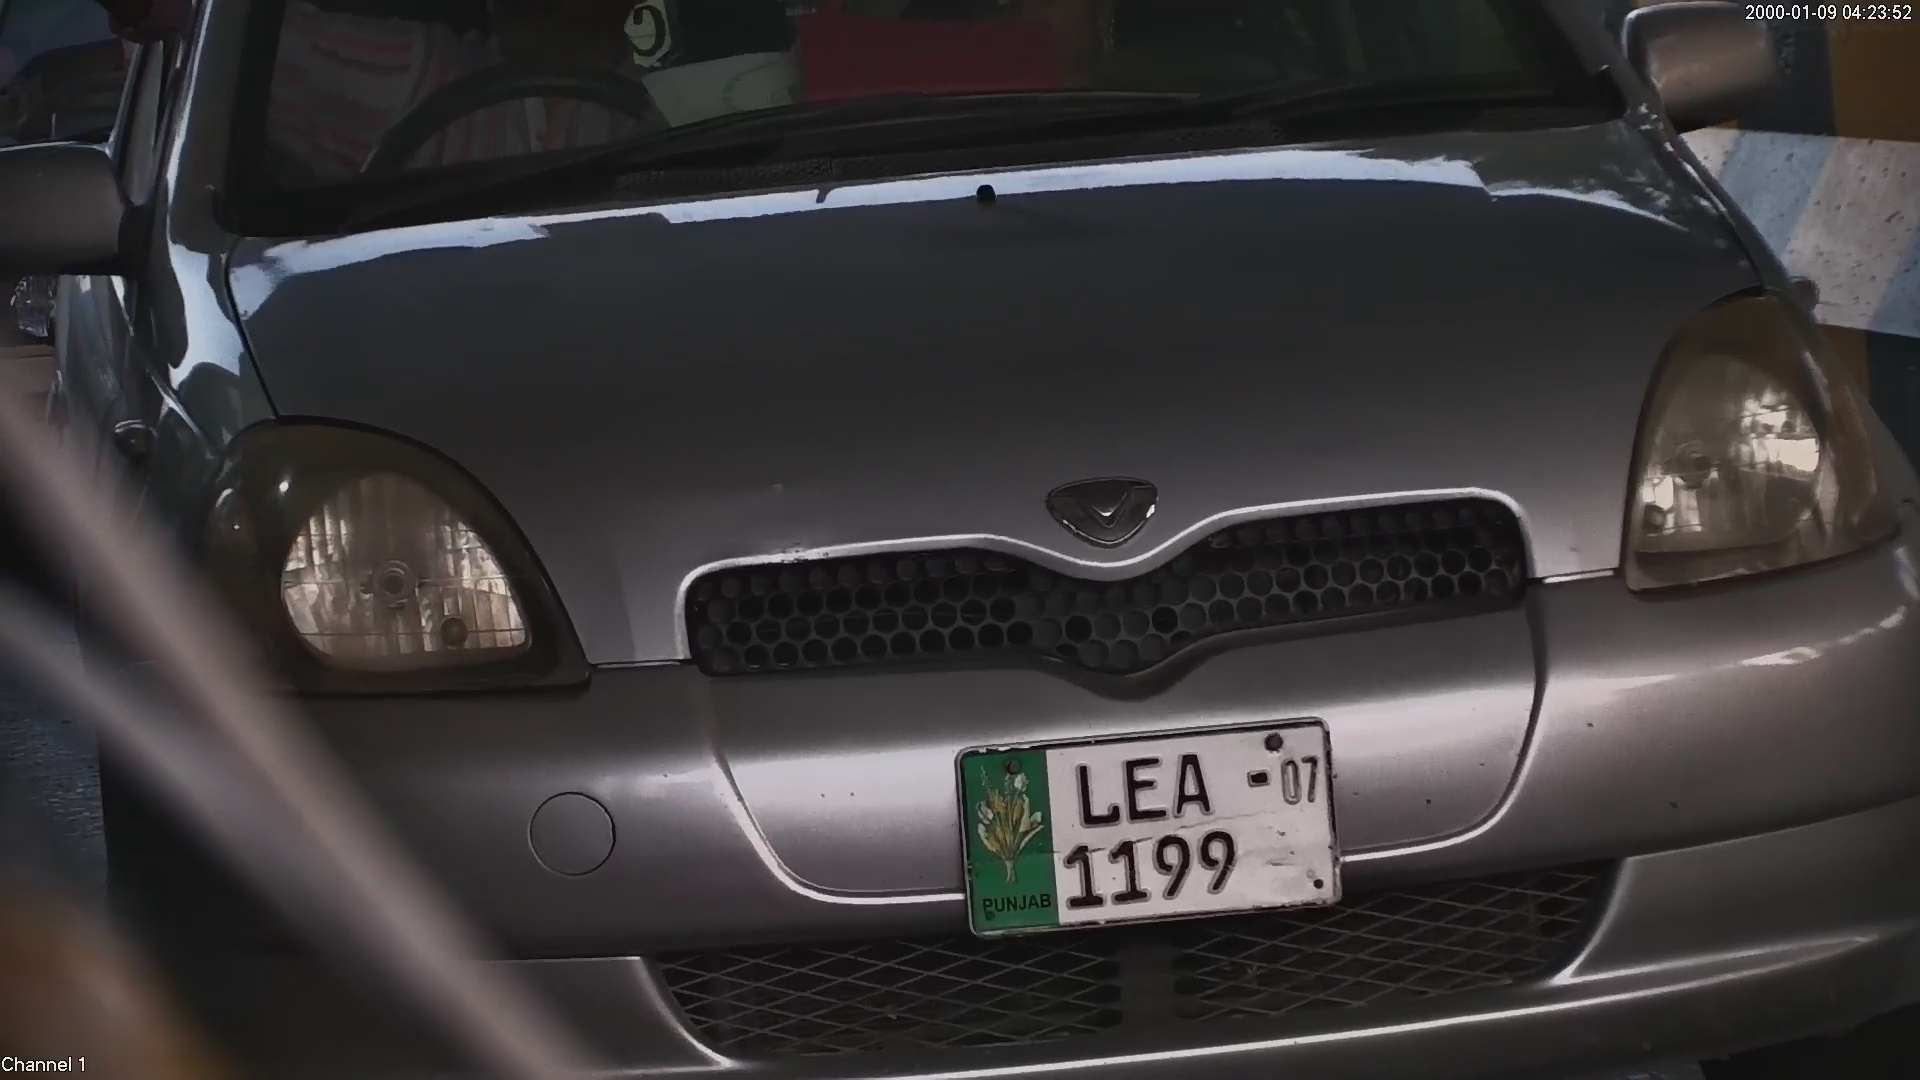Number_Plate: (939, 709, 1367, 938)
